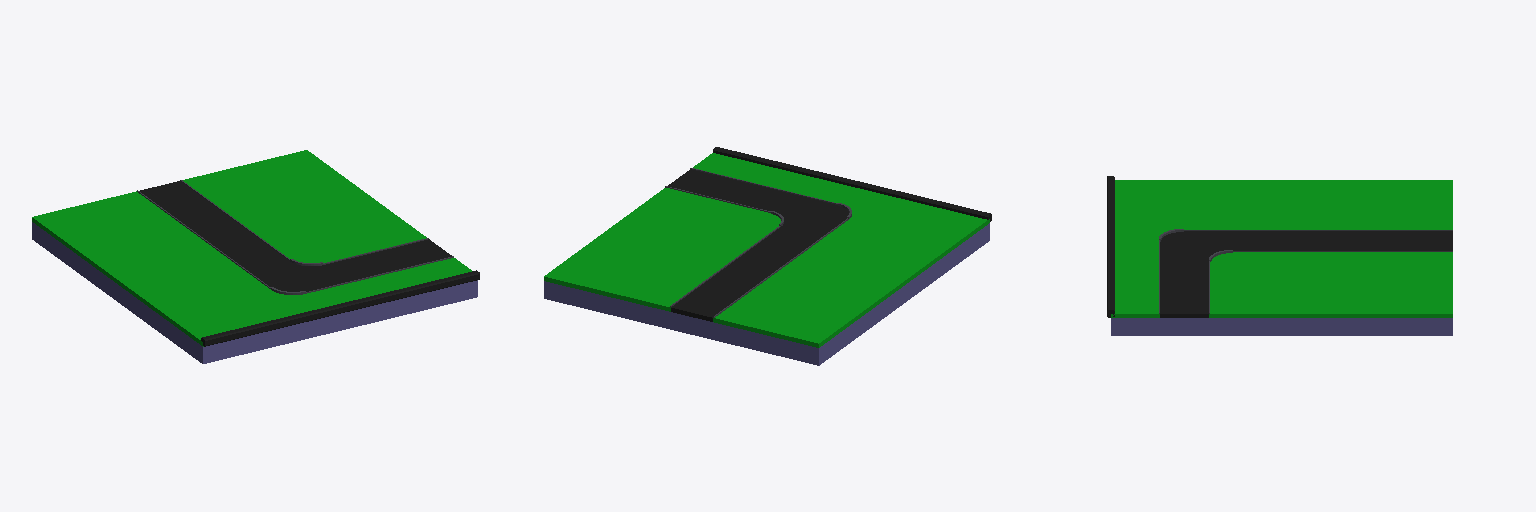
File: MenuRoadCurve.obj
3 views of the same model, side by side, from view 1: azimuth 30°, elevation 25°; view 2: azimuth 150°, elevation 25°; view 3: azimuth 270°, elevation 25° (orthographic).
Parts seen in each view (by area): view 1: block, arch_horizontal, detail_fence_center; view 2: block, arch_horizontal, detail_fence_center; view 3: block, arch_horizontal, detail_fence_center.
Boxes of the visible parts, box(x1,y1,x2,y2) form: block: box(32, 150, 477, 363); arch_horizontal: box(201, 270, 479, 346); detail_fence_center: box(137, 180, 453, 293); block: box(544, 153, 989, 365); arch_horizontal: box(713, 147, 991, 221); detail_fence_center: box(665, 168, 848, 317); block: box(1111, 180, 1452, 335); arch_horizontal: box(1107, 176, 1114, 317); detail_fence_center: box(1159, 230, 1452, 313).
Bounding box in the file's own units: 13 × 1.17 × 14.16.